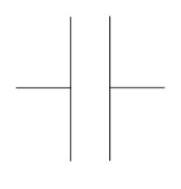Capacitor: (39, 8, 128, 164)
